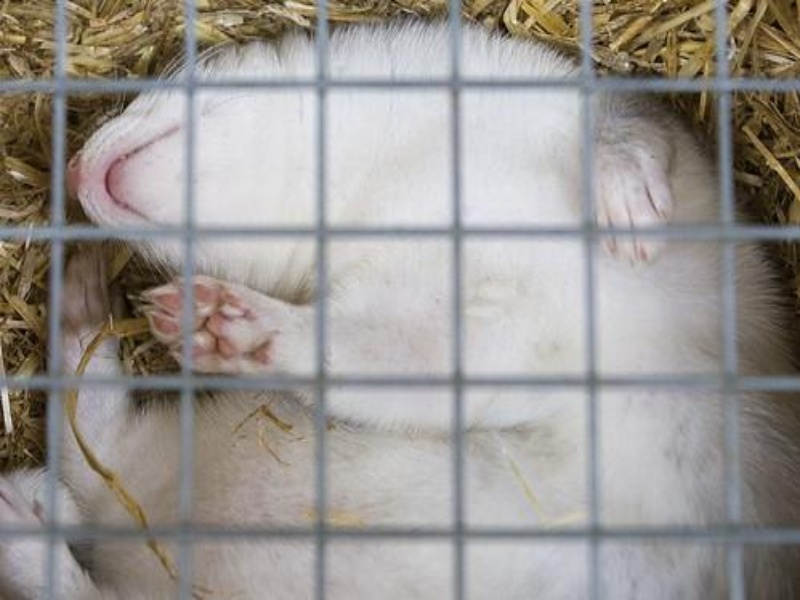minkish: (17, 22, 797, 597)
